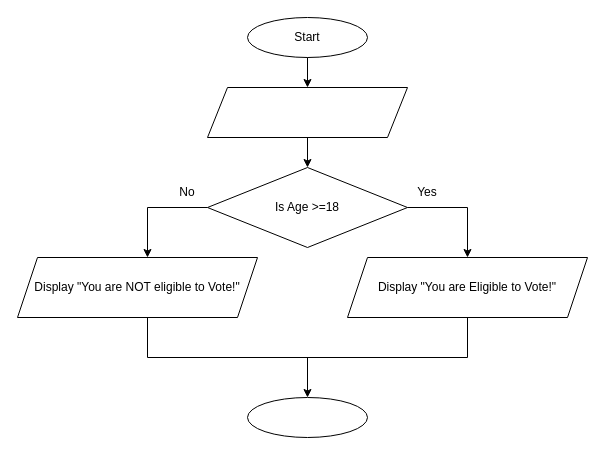
Some shapes in this 605 by 455 pixel diagram are drawn without their labels. Here are the shapes that lost their labels. From the top down, the centre of each, then its label:
At (307,112): "Input Number".
At (307,417): "Stop".
